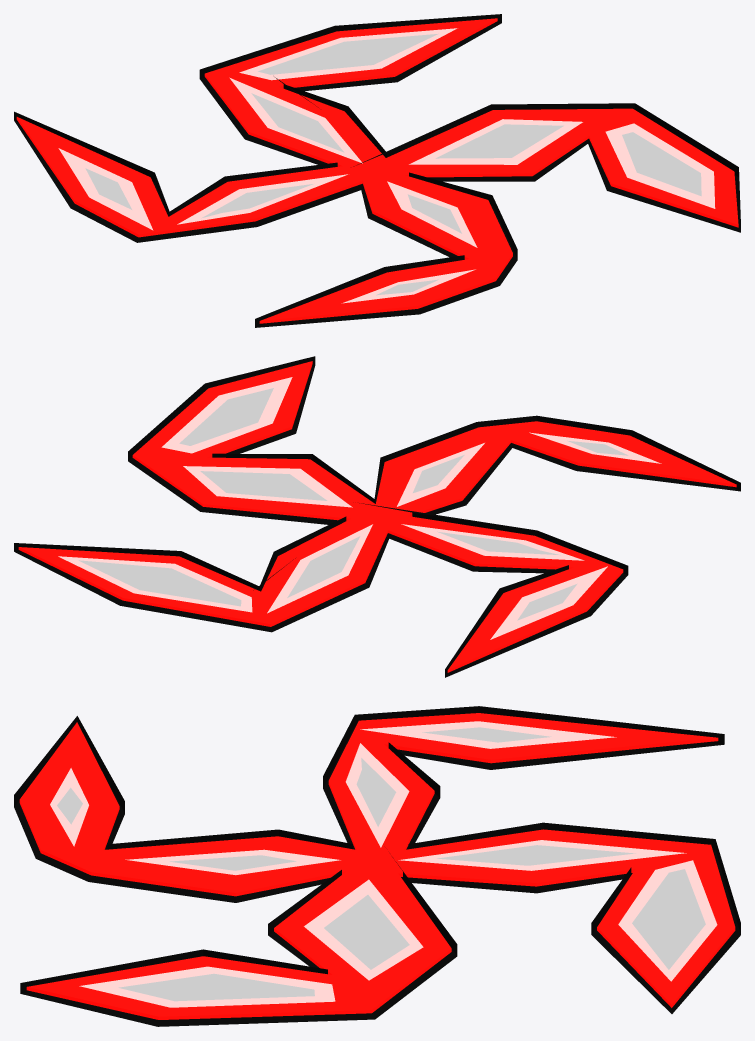
Rendered from IndieSvastika.fbx.
3 views of the same model, one above another, from view 1: azimuth 30°, elevation 25°; view 2: azimuth 150°, elevation 25°; view 3: azimuth 270°, elevation 25° (orthographic). The views are drawn at different scales.
Parts seen in each view (by area): view 1: Plane, Plane.001; view 2: Plane, Plane.001; view 3: Plane, Plane.001.
Boxes of the visible parts, x1,y1,x2,y2 form: Plane: (16, 18, 738, 323); Plane.001: (14, 14, 740, 327); Plane: (18, 361, 736, 672); Plane.001: (14, 356, 740, 677); Plane: (19, 713, 735, 1019); Plane.001: (14, 706, 740, 1026).
Bounding box in the file's own units: 195 × 5 × 195.
